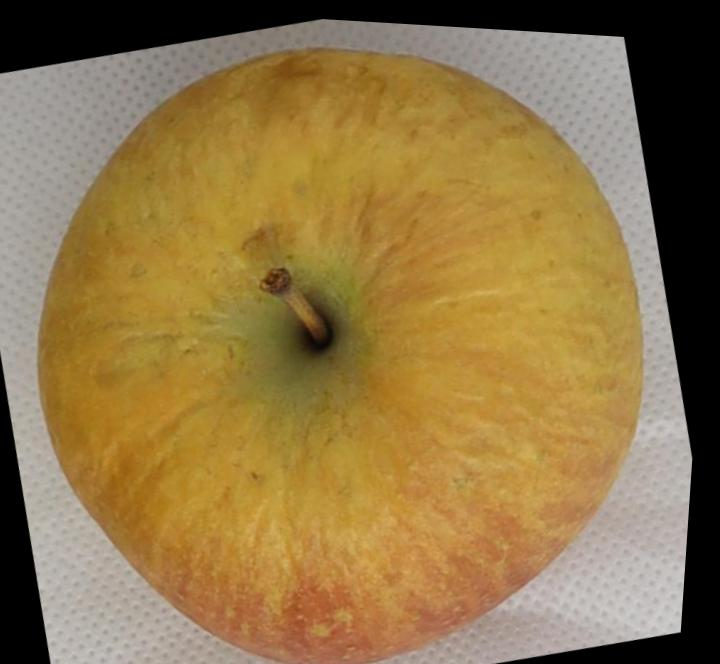apple: (38, 47, 641, 664)
rot_mold_decay: (39, 48, 641, 644)
